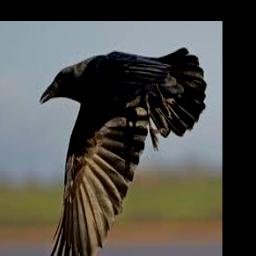Crow: (34, 49, 207, 256)
